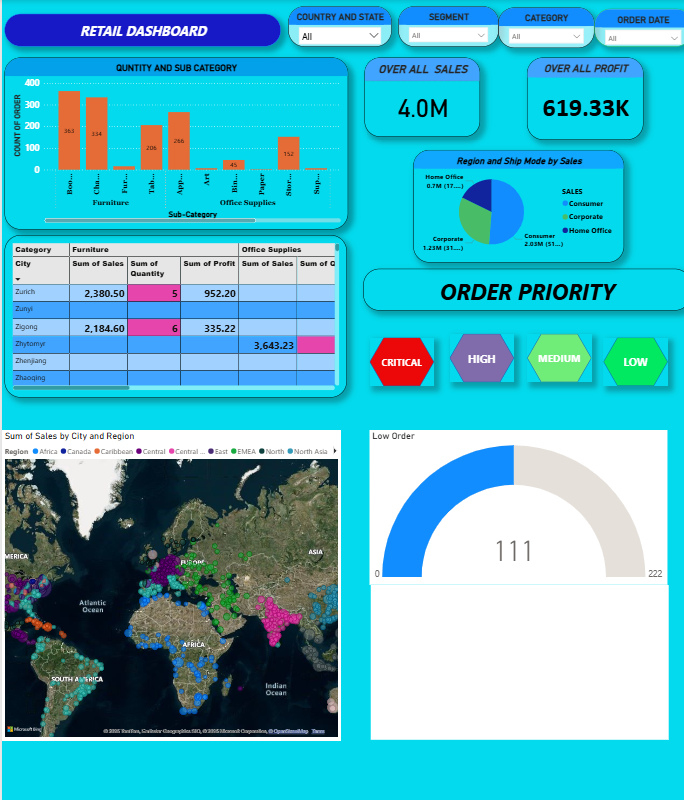

The page's visual inventory and layout, read from the dashboard file:
{"tool":"powerbi","page":{"name":"Retail Dashboard","canvas":[1280,1500],"ordinal":0},"visuals":[{"type":"slicer","title":"SEGMENT","fields":{"Values":["Orders Table.Segment"]},"box":[734.8,11.3,186.5,74.9],"z":0},{"type":"textbox","box":[4.8,25,512.6,60.8],"z":1000},{"type":"slicer","title":"CATEGORY","fields":{"Values":["Orders Table.Category"]},"box":[921.4,14.1,178.1,74.9],"z":2000},{"type":"slicer","title":"COUNTRY AND STATE","fields":{"Values":["Orders Table.Country","Orders Table.State"]},"box":[531.3,12.7,192.2,74.9],"z":3000},{"type":"slicer","title":"ORDER DATE","fields":{"Values":["Orders Table.Order Date.Variation.Date Hierarchy.Year"]},"box":[1099.4,17,180.9,70.7],"z":4000},{"type":"clusteredColumnChart","title":"QUNTITY AND SUB CATEGORY","fields":{"Category":["Orders Table.Category","Orders Table.Sub-Category"],"Y":["CountNonNull(Orders Table.Order ID)"]},"box":[4.2,106,637.3,319.4],"z":5000},{"type":"card","title":"OVER ALL  SALES","fields":{"Values":["Sum(Orders Table.Sales)"]},"box":[672.6,106,214.8,147],"z":6000},{"type":"card","title":"OVER ALL PROFIT","fields":{"Values":["Sum(Orders Table.Profit)"]},"box":[973.6,106,216.2,152.6],"z":7000},{"type":"pieChart","title":" Region and  Ship Mode by Sales","fields":{"Y":["Sum(Orders Table.Sales)"],"Category":["Orders Table.Segment"]},"box":[764.1,277.7,391,208.6],"z":8000},{"type":"pivotTable","fields":{"Rows":["Orders Table.City"],"Columns":["Orders Table.Category"],"Values":["Sum(Orders Table.Sales)","Sum(Orders Table.Quantity)","Sum(Orders Table.Profit)"]},"box":[4.8,435.1,635.4,301.6],"z":9000},{"type":"shape","box":[682.5,626,120,90.4],"z":10000},{"type":"shape","box":[830.9,618.9,120,90],"z":11000},{"type":"shape","box":[973.6,618.9,120,90],"z":12000},{"type":"shape","box":[1116.4,626,120,90],"z":13000},{"type":"textbox","box":[669.9,499.5,607.9,77.5],"z":14000},{"type":"map","fields":{"Series":["Orders Table.Region"],"Category":["Orders Table.City"],"Size":["Sum(Orders Table.Sales)"]},"box":[0,798.4,628.1,575],"z":15000},{"type":"gauge","title":"Low Order","fields":{"Y":["CountNonNull(Orders Table.Order Priority)"]},"box":[682.8,798.4,553.1,287.5],"z":19000},{"type":"textbox","box":[683,1086,553,287],"z":20000}]}

Visuals, with their boxes in screenshot pixels (x1, y1, x2, y2), scaled from the page's 1280x1500 canvas onto the 684x800 screenshot:
"SEGMENT" slicer: rect(393, 6, 492, 46)
textbox: rect(3, 13, 276, 46)
"CATEGORY" slicer: rect(492, 8, 588, 47)
"COUNTRY AND STATE" slicer: rect(284, 7, 387, 47)
"ORDER DATE" slicer: rect(587, 9, 683, 47)
"QUNTITY AND SUB CATEGORY" clusteredColumnChart: rect(2, 57, 343, 227)
"OVER ALL  SALES" card: rect(359, 57, 474, 135)
"OVER ALL PROFIT" card: rect(520, 57, 636, 138)
" Region and  Ship Mode by Sales" pieChart: rect(408, 148, 617, 259)
pivotTable - Orders Table.City x Orders Table.Category: rect(3, 232, 342, 393)
shape: rect(365, 334, 429, 382)
shape: rect(444, 330, 508, 378)
shape: rect(520, 330, 584, 378)
shape: rect(597, 334, 661, 382)
textbox: rect(358, 266, 683, 308)
map - Orders Table.Region x Orders Table.City: rect(0, 426, 336, 732)
"Low Order" gauge: rect(365, 426, 660, 579)
textbox: rect(365, 579, 660, 732)
